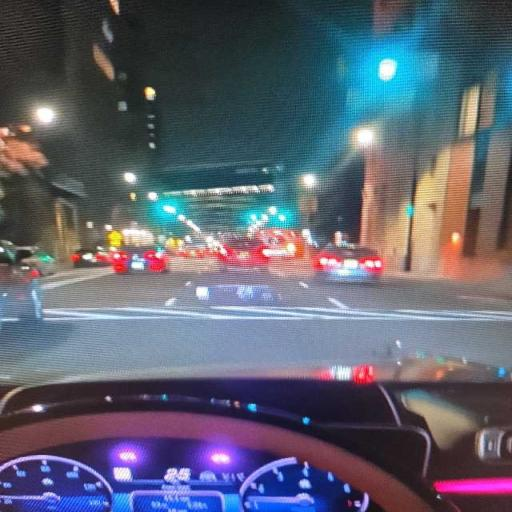car: (0, 361, 511, 511), (0, 242, 43, 321), (312, 244, 383, 281), (218, 238, 269, 270), (112, 247, 169, 274), (18, 247, 57, 276), (70, 248, 111, 268)
lane: (0, 273, 511, 382)
